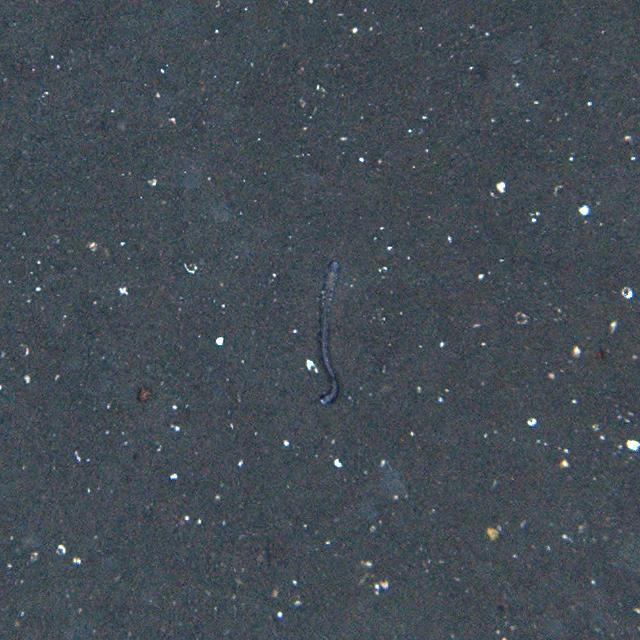roundfish: (318, 259, 347, 408)
